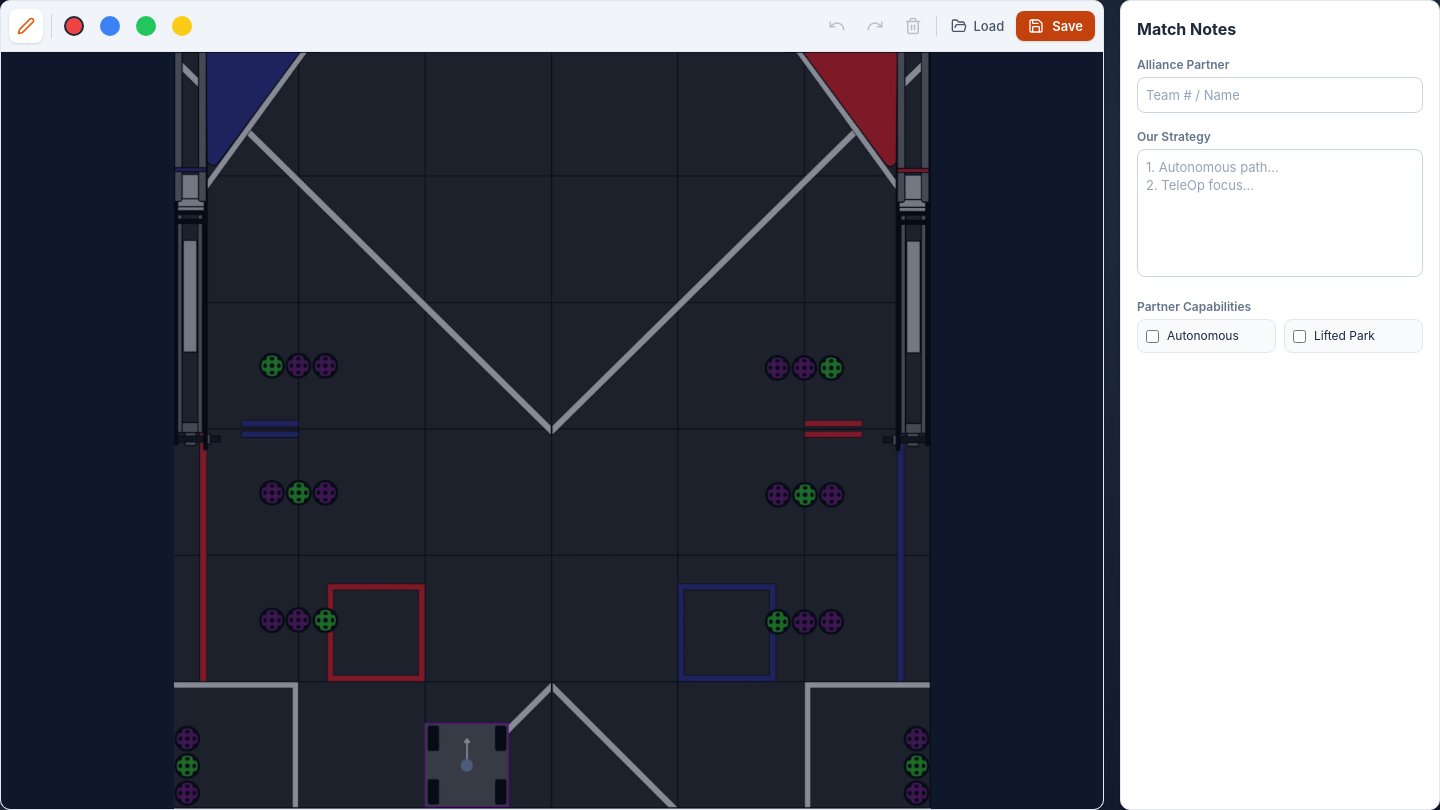
Test: MatchPlanner › Save Plan Modal › opens save modal, fills title, and saves
Add some notes
Type "9999" into the field with placeholder "Team # / Name" at (1280, 95), box 1137,77 -> 1423,113
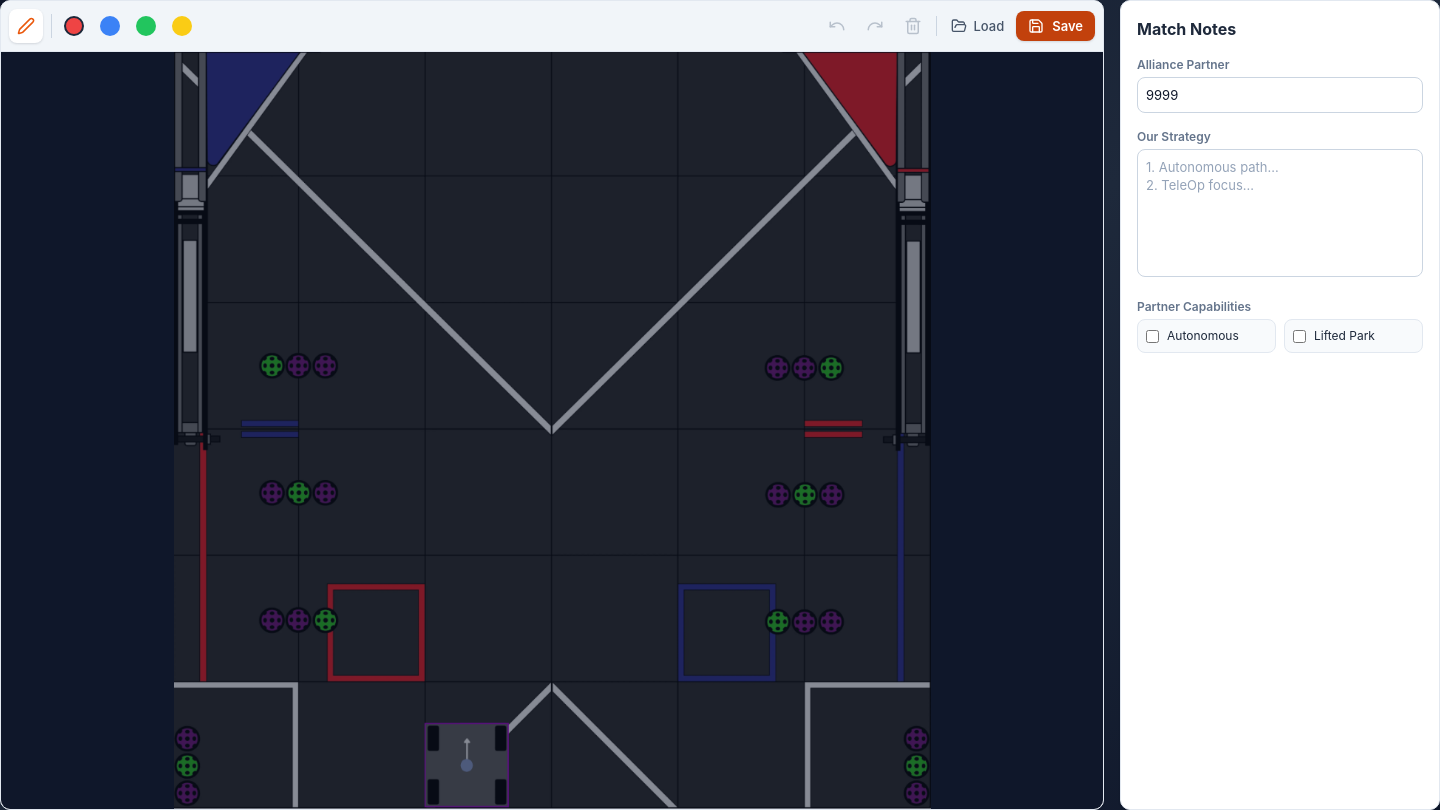
Click Save (icon) button
Click the button titled "Save Plan" at (1056, 26), box 1016,11 -> 1095,41
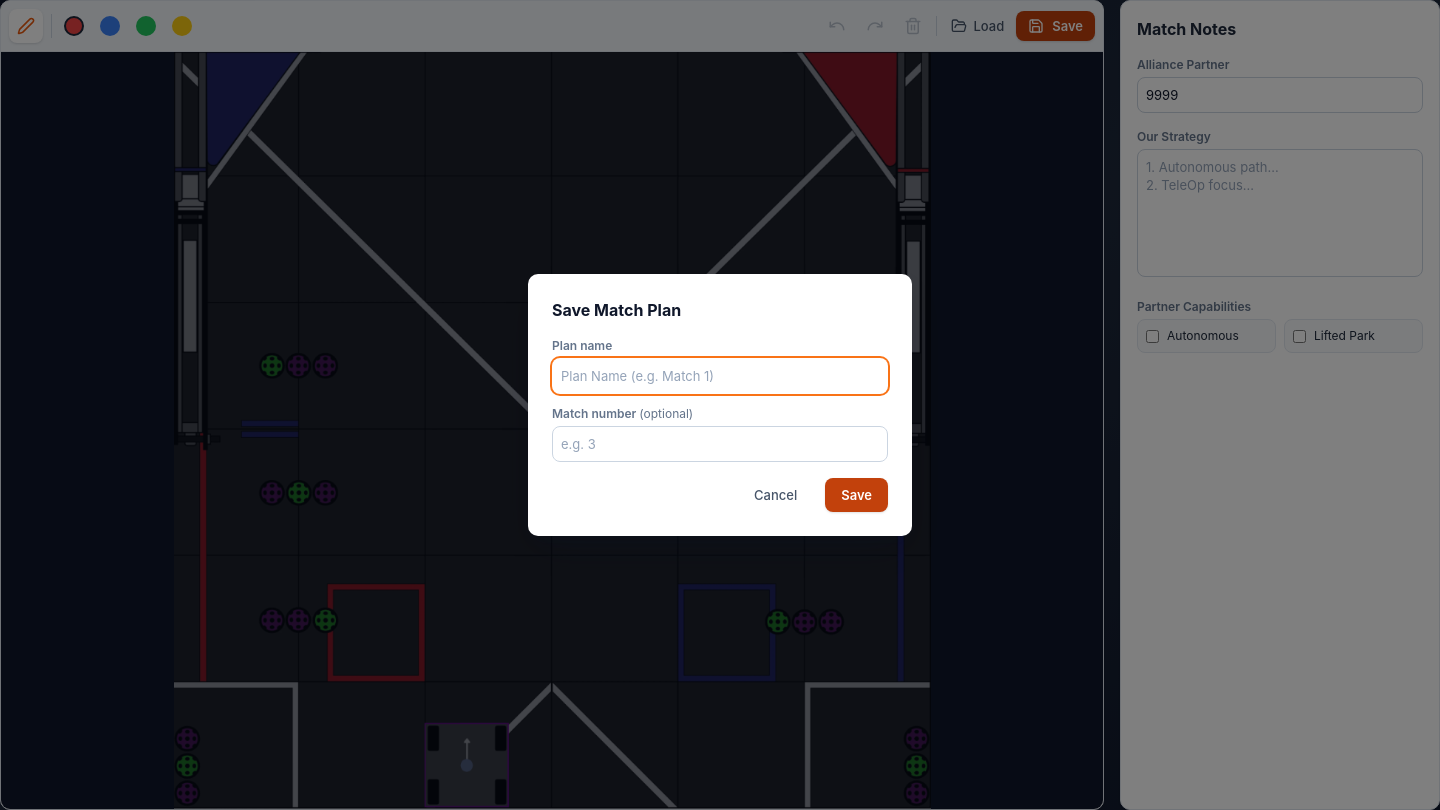
Expected: the heading "Save Match Plan" is shown, 552,300 -> 681,320
Type "My Awesome Plan" into the field with placeholder "Plan Name (e.g. Match 1)" at (720, 376), box 552,358 -> 888,394
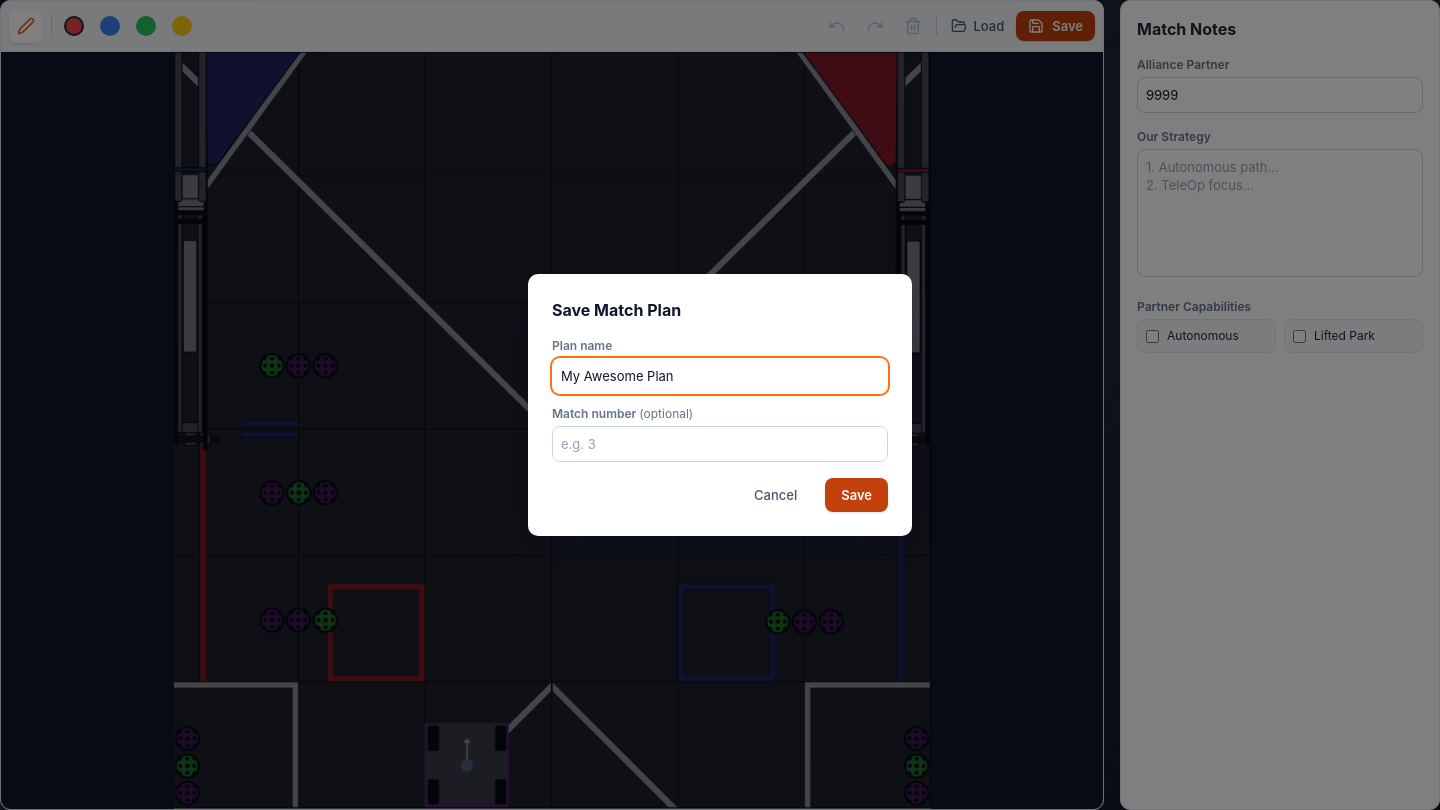
Press Enter to save
Press Enter in the field with placeholder "Plan Name (e.g. Match 1)", box 552,358 -> 888,394
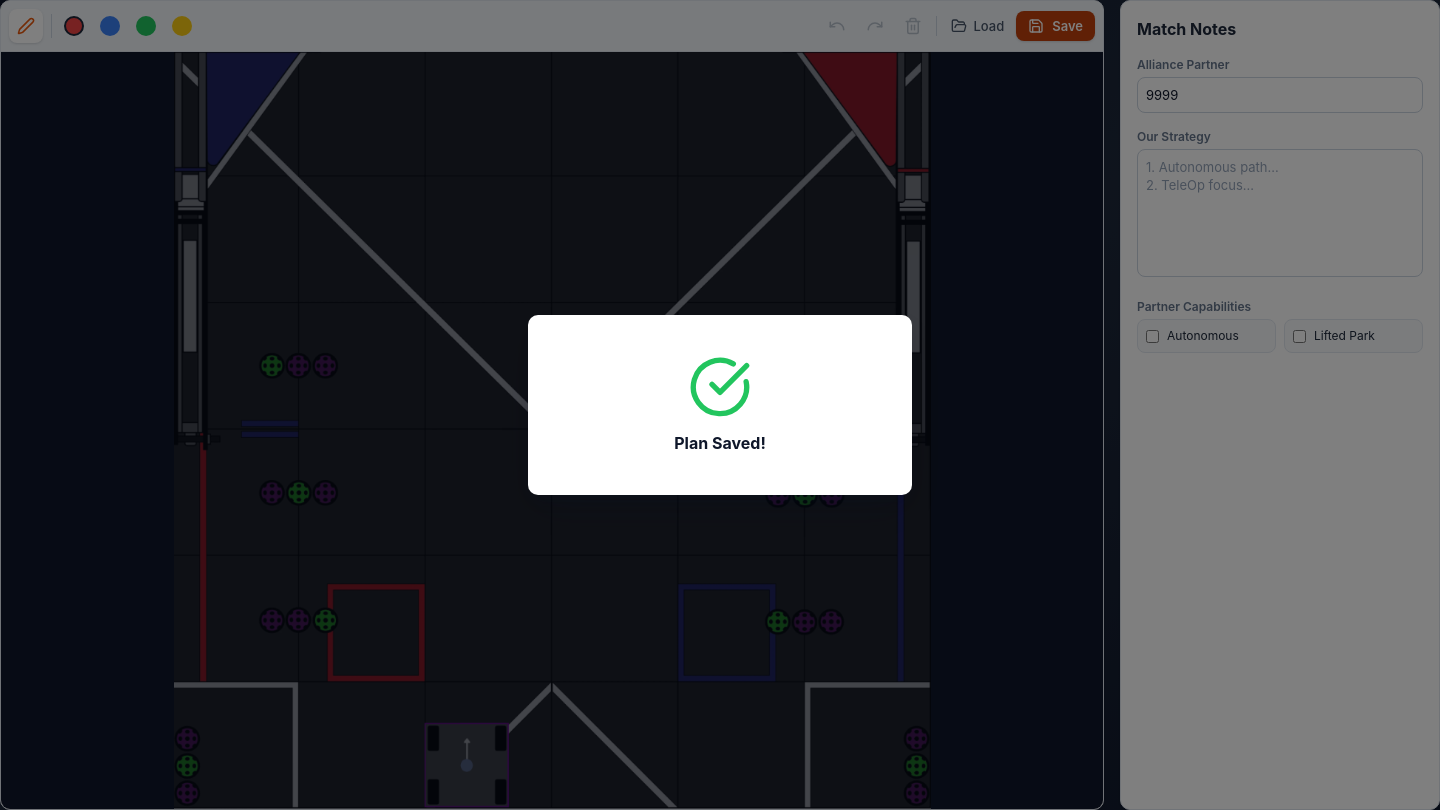
Expected: the heading "Plan Saved!" is shown, 674,431 -> 766,455
